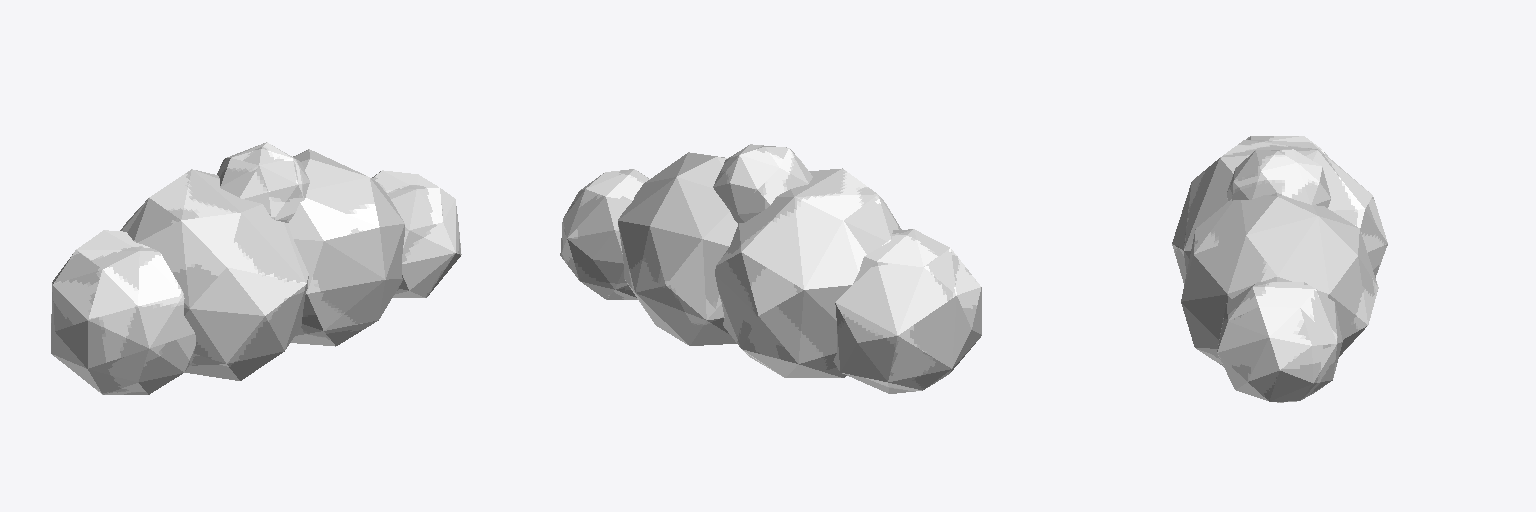
The picture shows the model from 3 angles: view 1: azimuth 30°, elevation 25°; view 2: azimuth 150°, elevation 25°; view 3: azimuth 270°, elevation 25°; orthographic projection.
Parts seen in each view (by area): view 1: Clouds_04_Untitled; view 2: Clouds_04_Untitled; view 3: Clouds_04_Untitled.
Part boxes in pixels (bbox=[...]): Clouds_04_Untitled: bbox=[51, 142, 461, 394]; Clouds_04_Untitled: bbox=[560, 144, 981, 393]; Clouds_04_Untitled: bbox=[1172, 136, 1387, 402].
Bounding box in the file's own units: 2.3 × 1.17 × 1.06.
Materials: 1 (1 with a texture image).